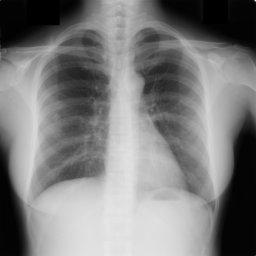left lobe: (135, 28, 213, 200)
right lobe: (36, 30, 110, 194)
